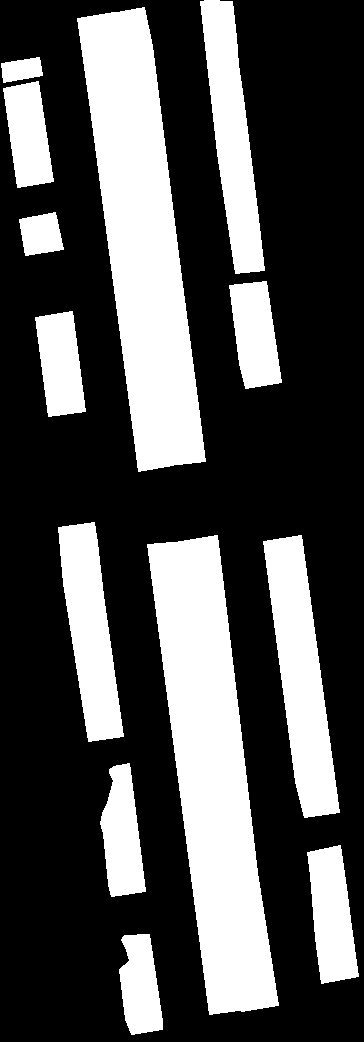parkingspot: (180, 535, 278, 1011), (147, 541, 245, 1014), (77, 12, 172, 471), (111, 7, 205, 465), (263, 535, 339, 817), (200, 0, 264, 273), (58, 522, 123, 741), (307, 845, 358, 983), (100, 763, 145, 896), (229, 281, 281, 388), (3, 81, 53, 187), (35, 311, 85, 416), (119, 934, 162, 1034), (19, 212, 63, 255), (1, 57, 42, 82)
